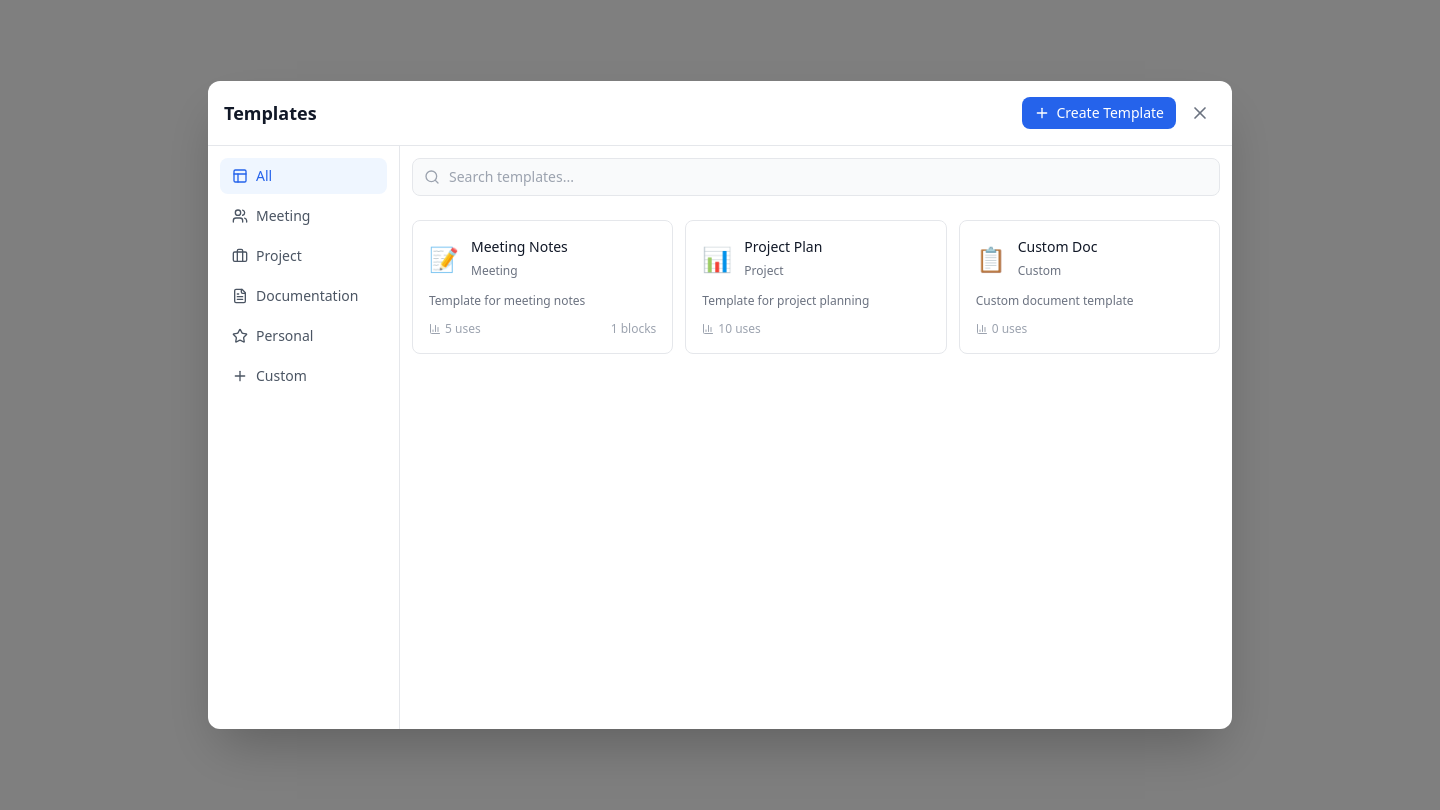
TemplateGallery › filters by category
Click the button "Meeting".
click(304, 216)  # box [220,198,387,234]
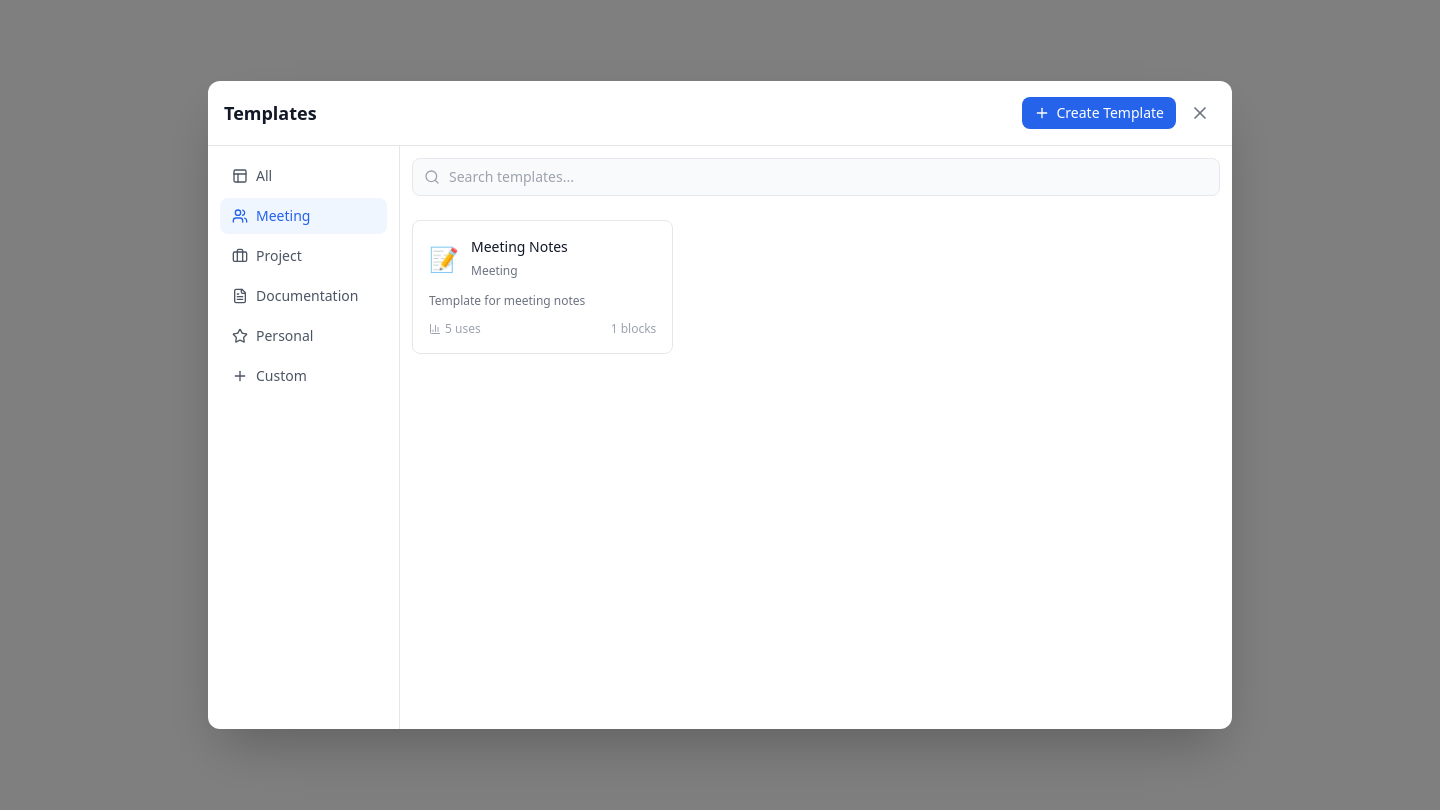
Check: the heading "Meeting Notes" is shown, box [471,237,568,256]
Check: the heading "Project Plan" is gone
